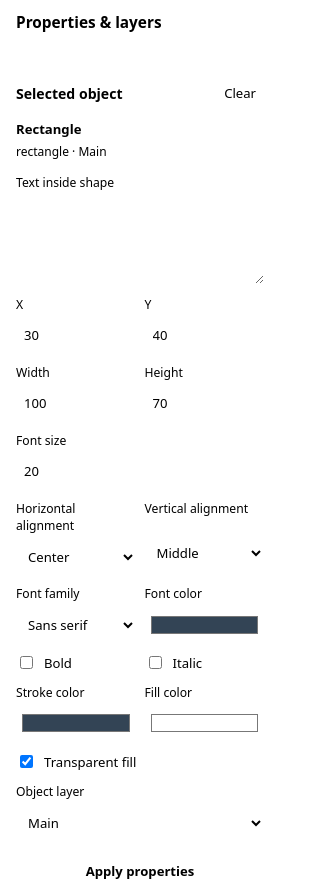
Scenario: canvas properties and layers › preserves the last valid object when an incomplete geometry draft loses selection
Step 1. Clear the number field labelled "Width" → (76, 403), box 16,386 -> 136,420
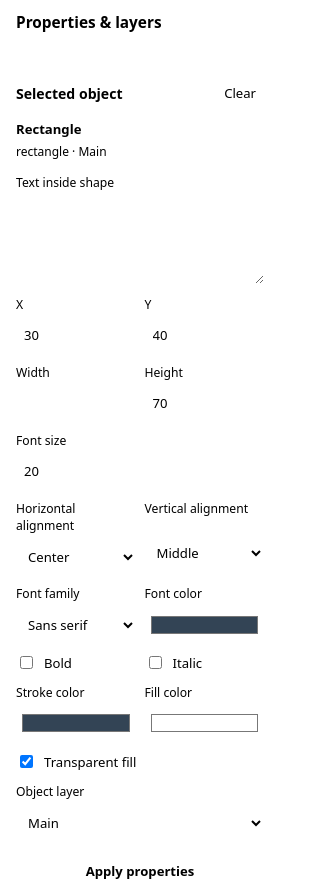
Step 2. Type "Must stay draft" into the text box labelled "Text inside shape" → (140, 240), box 16,196 -> 264,284
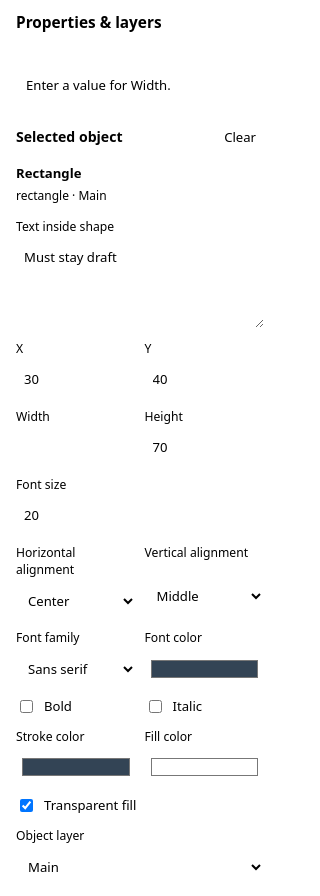
Step 3. Click the button with aria-label "Clear object selection" → click(240, 137), box 216,122 -> 264,152
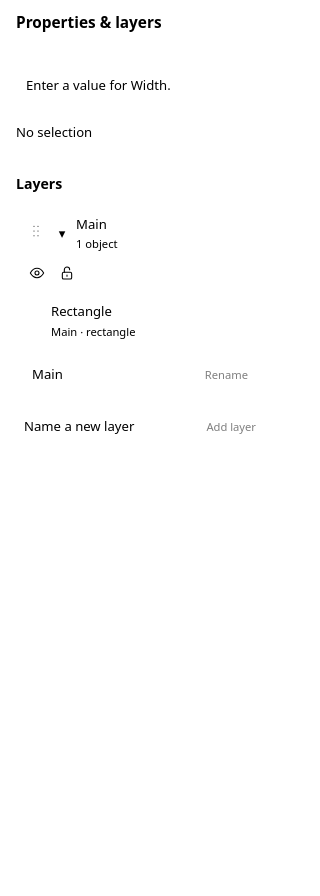
Step 4. Click the button with aria-label "Select Rectangle on Main" → click(150, 320), box 43,296 -> 256,345
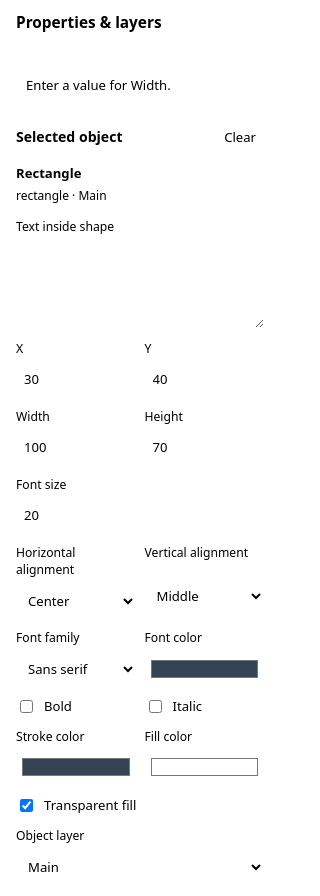
Check: the number field labelled "Width" holds "100", box 16,430 -> 136,464
Check: the text box labelled "Text inside shape" is empty, box 16,240 -> 264,328
